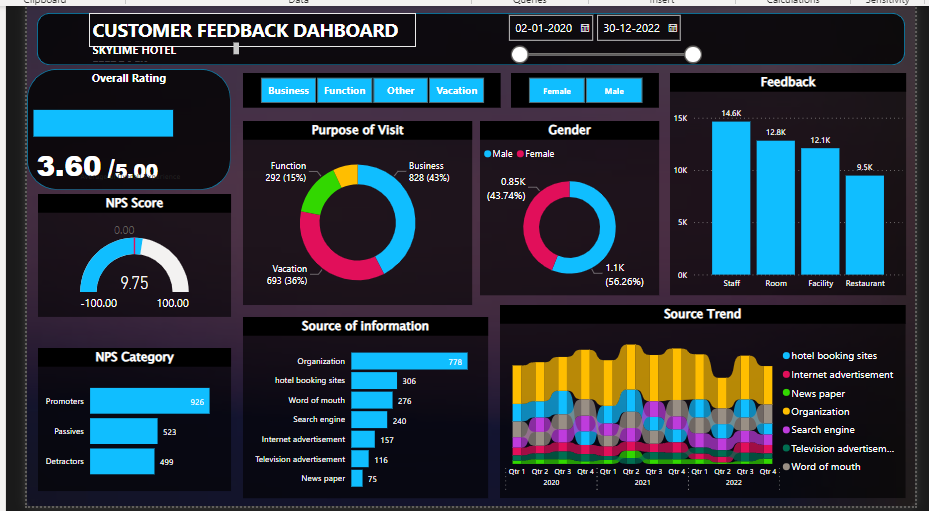

Layout of this report page (visuals, bound fields, positions):
{"tool":"powerbi","page":{"name":"Page 1","canvas":[1280,720],"ordinal":0},"visuals":[{"type":"shape","box":[15,10,1250,75],"z":0},{"type":"slicer","fields":{"Values":["General.Purpose"]},"box":[310.4,96.4,371.3,49.6],"z":1000},{"type":"slicer","fields":{"Values":["General.Gender"]},"box":[697.3,96.4,212.6,49.6],"z":2000},{"type":"gauge","fields":{"Y":["General.NPS Score"]},"box":[15.6,270.7,277.8,177.2],"z":3000},{"type":"clusteredBarChart","title":"NPS Category","fields":{"Category":["General.NPS"],"Y":["CountNonNull(General.NPS)"]},"box":[15.6,491.8,277.8,205.5],"z":4000},{"type":"donutChart","title":" Purpose of Visit","fields":{"Category":["General.Purpose"],"Y":["CountNonNull(General.Purpose)"]},"box":[310.4,165.8,330.2,265],"z":5000},{"type":"donutChart","title":"Gender","fields":{"Category":["General.Gender"],"Y":["CountNonNull(General.Gender)"]},"box":[652,165.8,258,250.9],"z":6000},{"type":"clusteredBarChart","title":"Source of information","fields":{"Category":["General.Source"],"Y":["CountNonNull(General.Source)"]},"box":[310.4,447.9,352.9,261],"z":7000},{"type":"ribbonChart","title":"Source Trend","fields":{"Series":["General.Source"],"Y":["CountNonNull(General.Source)"],"Category":["General.Checkout Date.Variation.Date Hierarchy.Year","General.Checkout Date.Variation.Date Hierarchy.Quarter"]},"box":[681.7,430.9,583.9,277.8],"z":8000},{"type":"clusteredColumnChart","title":"Feedback","fields":{"Y":["Sum(Feedback.Rating Score)"],"Category":["Feedback.Category"]},"box":[925.5,96.4,340.2,320.3],"z":9000},{"type":"shape","box":[0,90.7,293.4,174],"z":10000},{"type":"textbox","box":[0,87.9,293.4,34],"z":11000},{"type":"card","fields":{"Values":["Avg(General.Overall Experience)"]},"box":[0,201.3,120.5,55.3],"z":12000},{"type":"textbox","box":[110.6,201.3,141.7,69.4],"z":13000},{"type":"clusteredBarChart","fields":{"Y":["Avg(General.Overall Experience)"]},"box":[4.3,85,289.1,171.5],"z":14000},{"type":"textbox","box":[89.3,9.9,470.6,49.6],"z":15000},{"type":"textbox","box":[89.3,48.2,221.1,36.9],"z":16000},{"type":"slicer","fields":{"Values":["General.Checkout Date"]},"box":[681.7,2.8,299.1,82.2],"z":16001}]}

Visuals, with their boxes on the page's 1280x720 design canvas (x1, y1, x2, y2). These are canvas units, not pixel positions in the 929x511 screenshot, which may show the page scaled, cropped or inside an application window:
shape: left=15, top=10, right=1265, bottom=85
slicer - General.Purpose: left=310, top=96, right=682, bottom=146
slicer - General.Gender: left=697, top=96, right=910, bottom=146
gauge - General.NPS Score: left=16, top=271, right=293, bottom=448
"NPS Category" clusteredBarChart: left=16, top=492, right=293, bottom=697
" Purpose of Visit" donutChart: left=310, top=166, right=641, bottom=431
"Gender" donutChart: left=652, top=166, right=910, bottom=417
"Source of information" clusteredBarChart: left=310, top=448, right=663, bottom=709
"Source Trend" ribbonChart: left=682, top=431, right=1266, bottom=709
"Feedback" clusteredColumnChart: left=926, top=96, right=1266, bottom=417
shape: left=0, top=91, right=293, bottom=265
textbox: left=0, top=88, right=293, bottom=122
card - Avg(General.Overall Experience): left=0, top=201, right=120, bottom=257
textbox: left=111, top=201, right=252, bottom=271
clusteredBarChart - Avg(General.Overall Experience): left=4, top=85, right=293, bottom=256
textbox: left=89, top=10, right=560, bottom=60
textbox: left=89, top=48, right=310, bottom=85
slicer - General.Checkout Date: left=682, top=3, right=981, bottom=85
